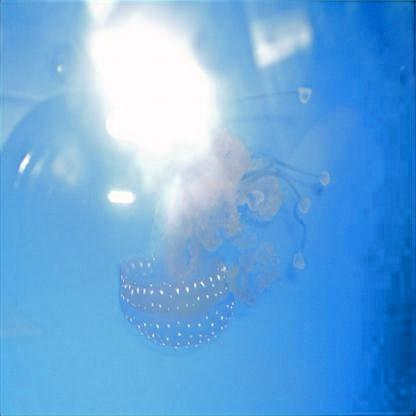LionMane: (117, 89, 329, 347)
